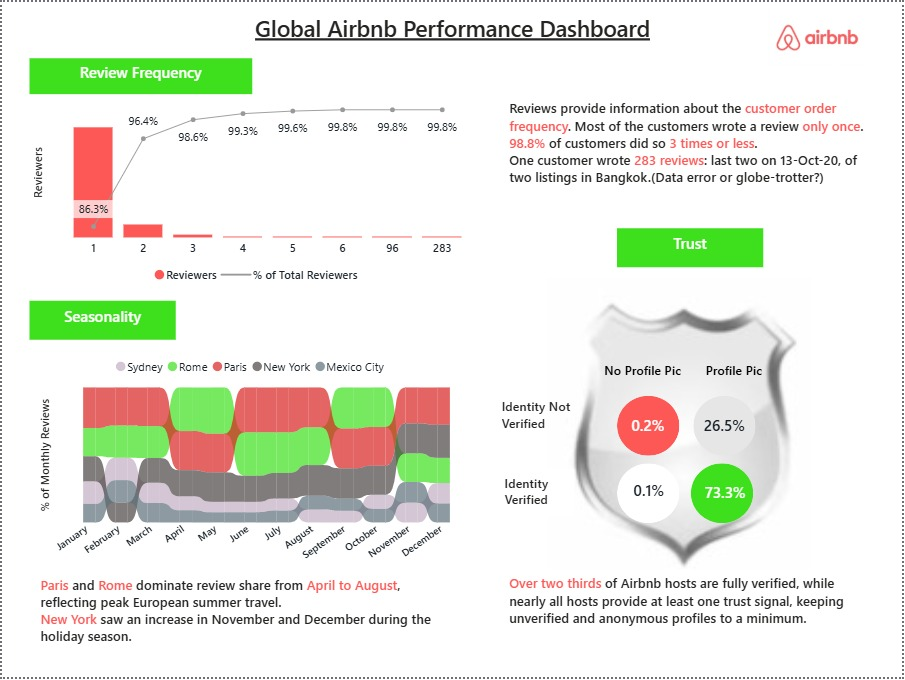

Layout of this report page (visuals, bound fields, positions):
{"tool":"powerbi","page":{"name":"Reviews","canvas":[960,720],"ordinal":2},"visuals":[{"type":"textbox","box":[206.1,6.1,547.8,53.8],"z":0},{"type":"image","box":[804,6.7,130.7,60],"z":1000},{"type":"textbox","box":[29.3,60,237.3,38.7],"z":2000},{"type":"textbox","box":[656,241.3,156,41.3],"z":4000},{"type":"lineStackedColumnComboChart","fields":{"Category":["Reviews.Reviews per Reviewer"],"Y":["Listings.Reviewers"],"Y2":["Reviews.Cumulative % review frequency"]},"box":[29.3,98.7,488,210.7],"z":5000},{"type":"textbox","box":[536,98.7,398.7,105.3],"z":6000},{"type":"image","box":[581.3,294.7,281.3,324],"z":7000},{"type":"shape","box":[734.7,492,66.7,64],"z":8000},{"type":"cardVisual","fields":{"Data":["Listings.Verified %"]},"box":[432,666.7,85.3,53.3],"z":9000},{"type":"shape","box":[656,492,66.7,64],"z":10000},{"type":"shape","box":[656,420,66.7,64],"z":11000},{"type":"shape","box":[737.3,420,66.7,64],"z":12000},{"type":"cardVisual","fields":{"Data":["Listings.NotVerified_NoProfile %"]},"box":[640,486.7,100,64],"z":13000},{"type":"cardVisual","fields":{"Data":["Listings.Verified %"]},"box":[717.3,492,108,58.7],"z":14000},{"type":"cardVisual","fields":{"Data":["Listings.No Profile %"]},"box":[640,420,98.7,60],"z":15000},{"type":"cardVisual","fields":{"Data":["Listings.NotVerified_Profile %"]},"box":[728,424,85.3,52],"z":16000},{"type":"textbox","box":[630.7,378.7,105.3,34.7],"z":17000},{"type":"textbox","box":[736,378.7,89.3,32],"z":18000},{"type":"textbox","box":[528,417.3,102.7,49.3],"z":19000},{"type":"textbox","box":[508,498.7,102.7,49.3],"z":20000},{"type":"textbox","box":[29.3,318.7,156,41.3],"z":21000},{"type":"ribbonChart","fields":{"Category":["Reviews.date.Variation.Date Hierarchy.Month"],"Y":["Listings.% of Monthly Reviews"],"Series":["Listings.city"]},"box":[36,369.3,461.3,236],"z":22000},{"type":"textbox","box":[536,605.3,392,77.3],"z":22001},{"type":"textbox","box":[36,606.7,444,86.7],"z":22002}]}

Visuals, with their boxes in screenshot pixels (x1, y1, x2, y2), scaled from the page's 960x720 canvas onto the 905x680 screenshot:
textbox: locate(194, 6, 711, 57)
image: locate(758, 6, 881, 63)
textbox: locate(28, 57, 251, 93)
textbox: locate(618, 228, 765, 267)
lineStackedColumnComboChart - Reviews.Reviews per Reviewer x Listings.Reviewers: locate(28, 93, 488, 292)
textbox: locate(505, 93, 881, 193)
image: locate(548, 278, 813, 584)
shape: locate(693, 465, 755, 525)
cardVisual - Listings.Verified %: locate(407, 630, 488, 679)
shape: locate(618, 465, 681, 525)
shape: locate(618, 397, 681, 457)
shape: locate(695, 397, 758, 457)
cardVisual - Listings.NotVerified_NoProfile %: locate(603, 460, 698, 520)
cardVisual - Listings.Verified %: locate(676, 465, 778, 520)
cardVisual - Listings.No Profile %: locate(603, 397, 696, 453)
cardVisual - Listings.NotVerified_Profile %: locate(686, 400, 767, 450)
textbox: locate(595, 358, 694, 390)
textbox: locate(694, 358, 778, 388)
textbox: locate(498, 394, 595, 441)
textbox: locate(479, 471, 576, 518)
textbox: locate(28, 301, 175, 340)
ribbonChart - Reviews.date.Variation.Date Hierarchy.Month x Listings.% of Monthly Reviews: locate(34, 349, 469, 572)
textbox: locate(505, 572, 875, 645)
textbox: locate(34, 573, 452, 655)
